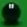black: (0, 0, 27, 27)
